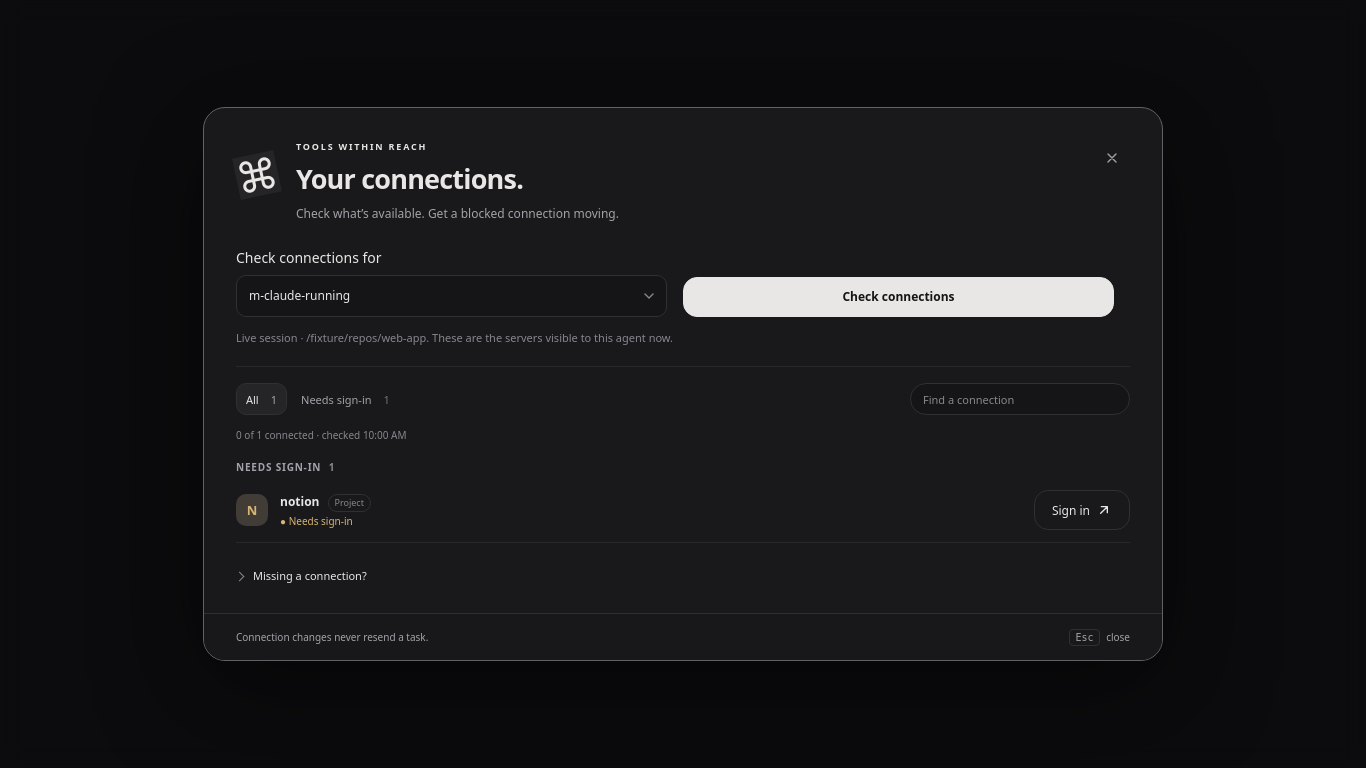
Scenario: ConnectionsDialog › opens the page itself when the server could not, and offers Try again after the timeout
This screenshot has width=1366, height=768.
Click the button with aria-label "Sign in notion" at (1082, 510), box left=1034, top=490, right=1130, bottom=530
Wait 338000 ms
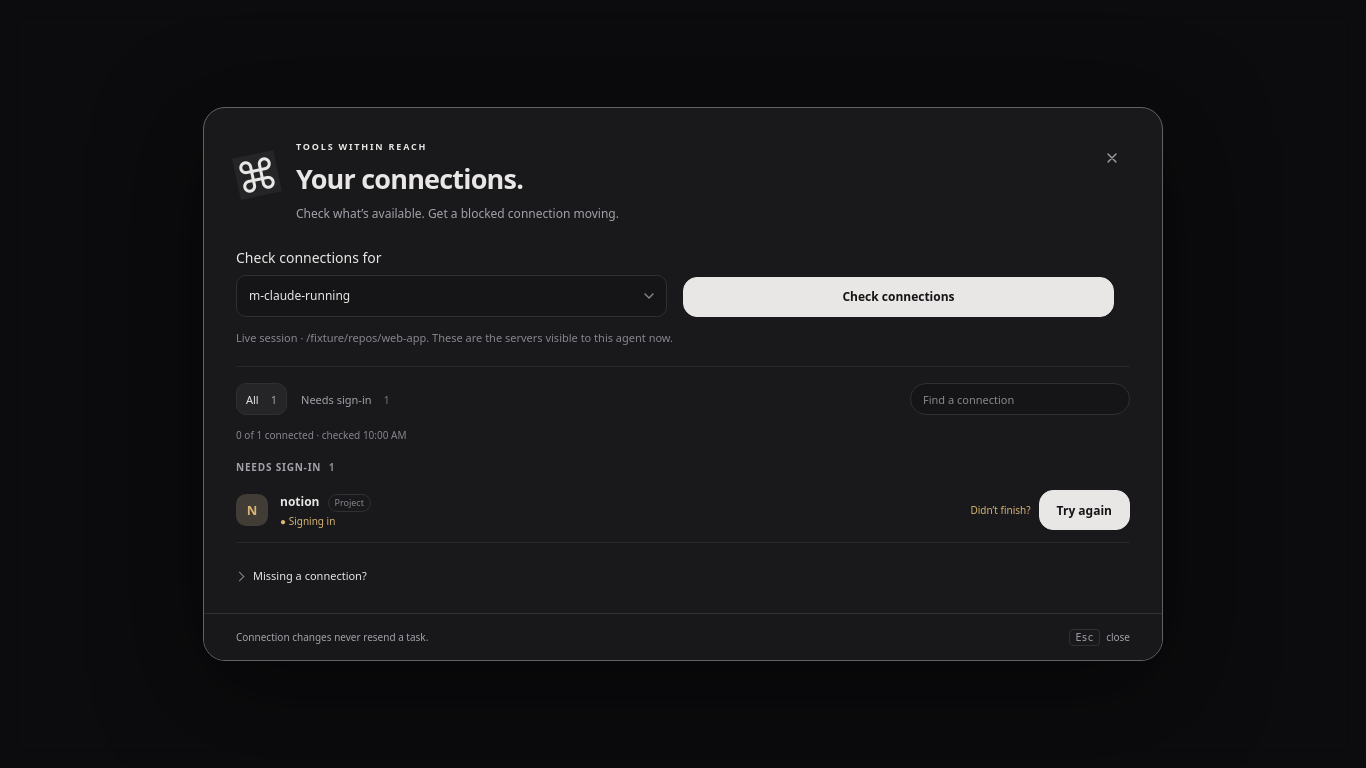
Check: the text "Didn’t finish?" is shown, box left=970, top=504, right=1031, bottom=518
Check: the button with aria-label "Try again notion" is shown, box left=1039, top=490, right=1130, bottom=530
